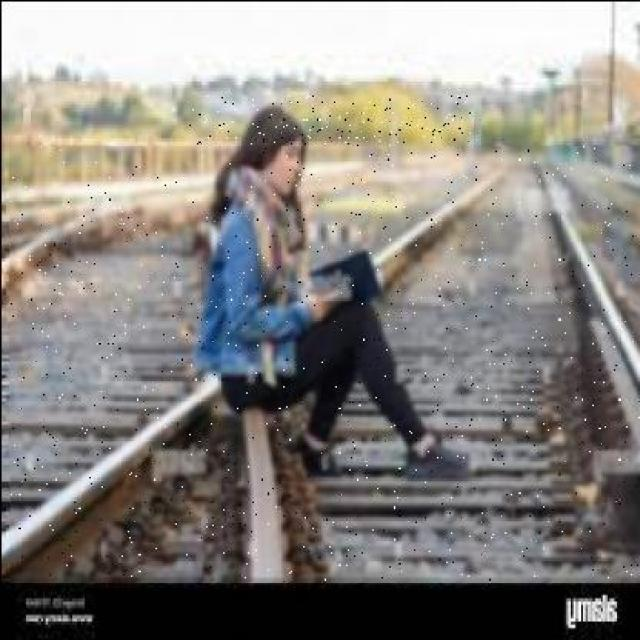danger: (188, 94, 471, 488)
rail: (9, 145, 638, 580)
